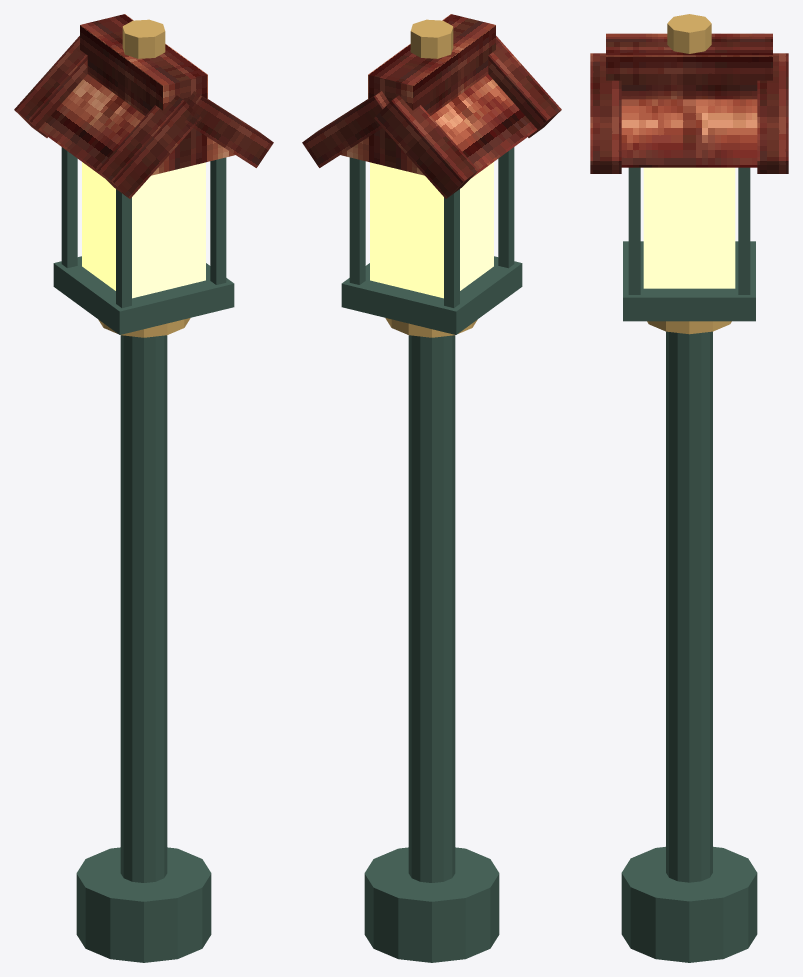
File: lamp.glb
The picture shows the model from 3 angles, left to right: view 1: azimuth 30°, elevation 25°; view 2: azimuth 150°, elevation 25°; view 3: azimuth 270°, elevation 25°; orthographic projection.
Visible parts, largest first — view 1: lamp_p9_iron, lamp_p9_roof, lamp_p9_glass, lamp_p9_gold; view 2: lamp_p9_iron, lamp_p9_roof, lamp_p9_glass, lamp_p9_gold; view 3: lamp_p9_iron, lamp_p9_roof, lamp_p9_glass, lamp_p9_gold.
Boxes of the visible parts, x1,y1,x2,y2 form: lamp_p9_iron: [53, 147, 234, 962]; lamp_p9_roof: [14, 14, 273, 198]; lamp_p9_glass: [82, 162, 205, 298]; lamp_p9_gold: [98, 19, 190, 337]; lamp_p9_iron: [341, 147, 522, 962]; lamp_p9_roof: [302, 14, 561, 198]; lamp_p9_glass: [370, 162, 493, 298]; lamp_p9_gold: [385, 19, 477, 337]; lamp_p9_iron: [621, 167, 757, 962]; lamp_p9_roof: [590, 33, 788, 173]; lamp_p9_glass: [643, 167, 735, 288]; lamp_p9_gold: [647, 14, 731, 334].
Size of the model in its own units: 0.7174 by 3.85 by 0.76.
4 materials, 1 textured.
